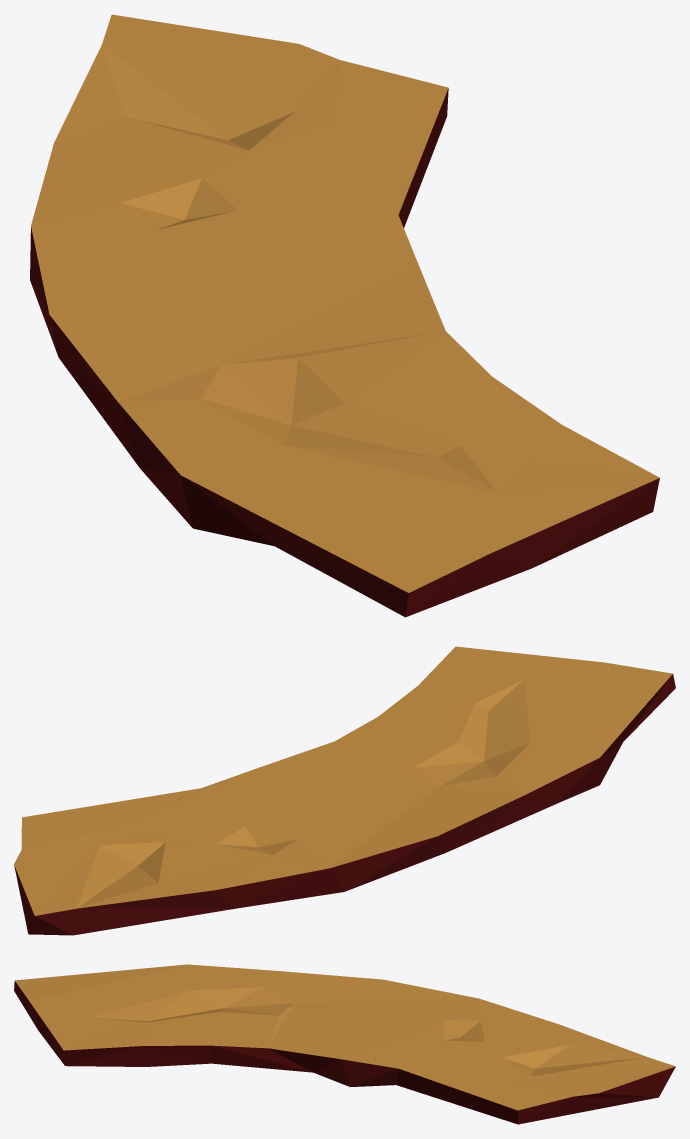
The model's file is modPlat_XtraLarge_Plat_Thin_modelled.fbx.
3 renders of one model, top to bottom at view 1: azimuth 30°, elevation 25°; view 2: azimuth 150°, elevation 25°; view 3: azimuth 270°, elevation 25°, orthographic. The views are drawn at different scales.
Visible parts, largest first — view 1: modPlat_XtraLarge_Plat_Thin_modelled; view 2: modPlat_XtraLarge_Plat_Thin_modelled; view 3: modPlat_XtraLarge_Plat_Thin_modelled.
Boxes of the visible parts, left/top/right/bottom form: modPlat_XtraLarge_Plat_Thin_modelled: left=30, top=14, right=659, bottom=617; modPlat_XtraLarge_Plat_Thin_modelled: left=14, top=646, right=675, bottom=935; modPlat_XtraLarge_Plat_Thin_modelled: left=14, top=964, right=675, bottom=1124.
Bounding box in the file's own units: 136 × 12.2 × 260.
